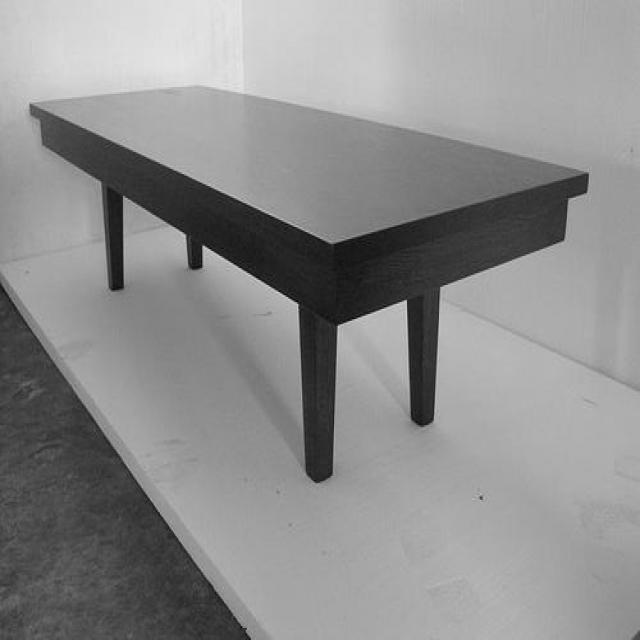table: (29, 81, 589, 483)
